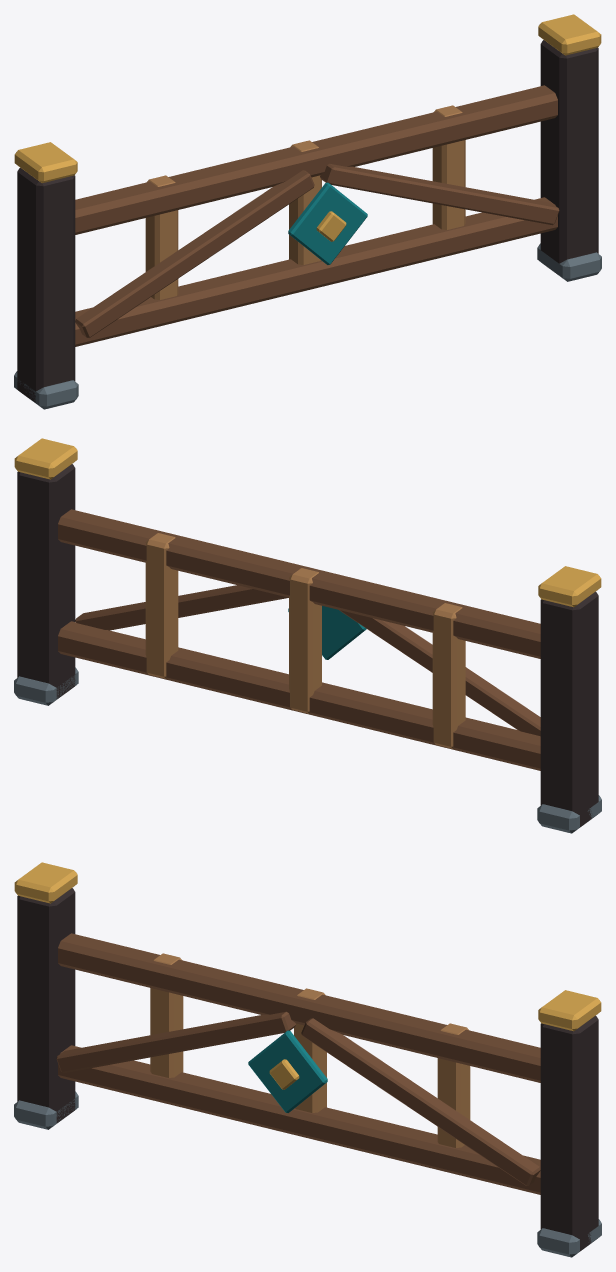
File: 23_Market_Fence.glb
The picture shows the model from 3 angles, top to bottom: view 1: azimuth 30°, elevation 25°; view 2: azimuth 150°, elevation 25°; view 3: azimuth 330°, elevation 25°; orthographic projection.
Parts seen in each view (by area): view 1: 23_Market_Fence__Body; view 2: 23_Market_Fence__Body; view 3: 23_Market_Fence__Body.
Part boxes in pixels (bbox=[...]): 23_Market_Fence__Body: bbox=[14, 14, 601, 409]; 23_Market_Fence__Body: bbox=[14, 438, 601, 833]; 23_Market_Fence__Body: bbox=[14, 862, 601, 1257].
Bounding box in the file's own units: 4 × 1.64 × 0.5075.
1 material, 1 textured.
